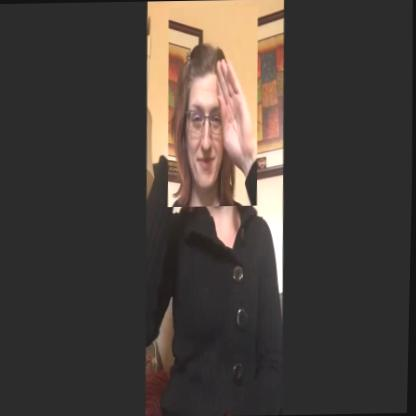Hello: (165, 6, 260, 206)
